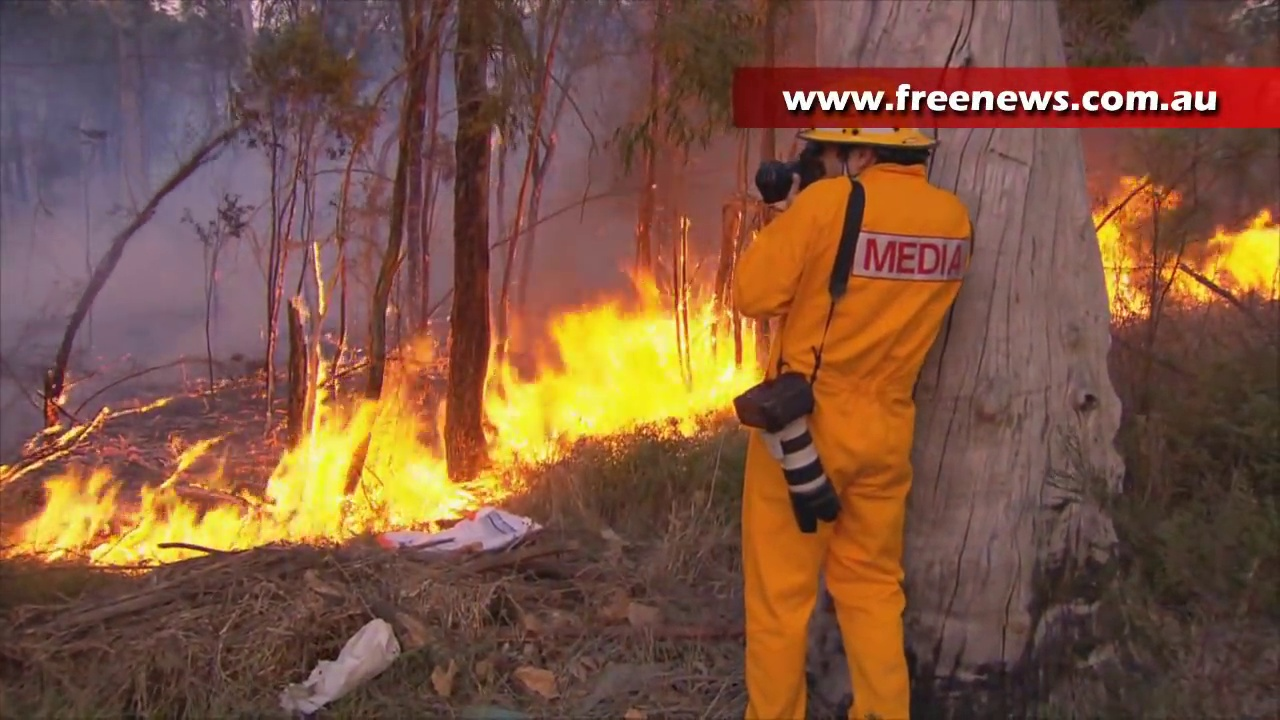fire: (24, 402, 468, 566), (492, 310, 755, 466), (1193, 210, 1280, 313), (1096, 169, 1151, 314)
